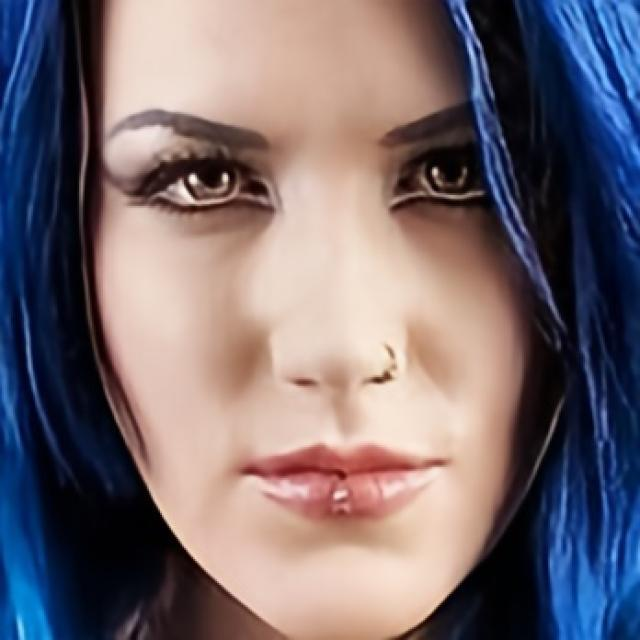content: (76, 0, 542, 640)
